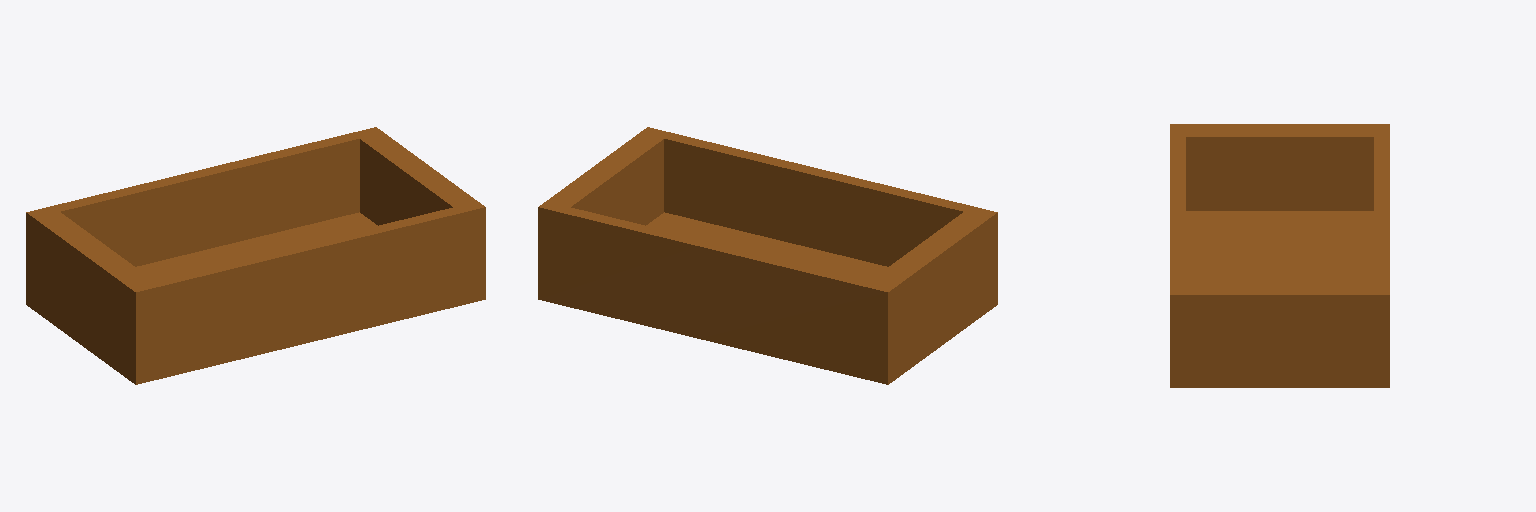
The model's file is Board.obj.
The picture shows the model from 3 angles: view 1: azimuth 30°, elevation 25°; view 2: azimuth 150°, elevation 25°; view 3: azimuth 270°, elevation 25°; orthographic projection.
Parts seen in each view (by area): view 1: Cube; view 2: Cube; view 3: Cube.
Boxes of the visible parts, x1,y1,x2,y2 form: Cube: [26, 127, 485, 384]; Cube: [538, 127, 997, 384]; Cube: [1170, 124, 1389, 387].
Size of the model in its own units: 3.69 by 0.9318 by 2.